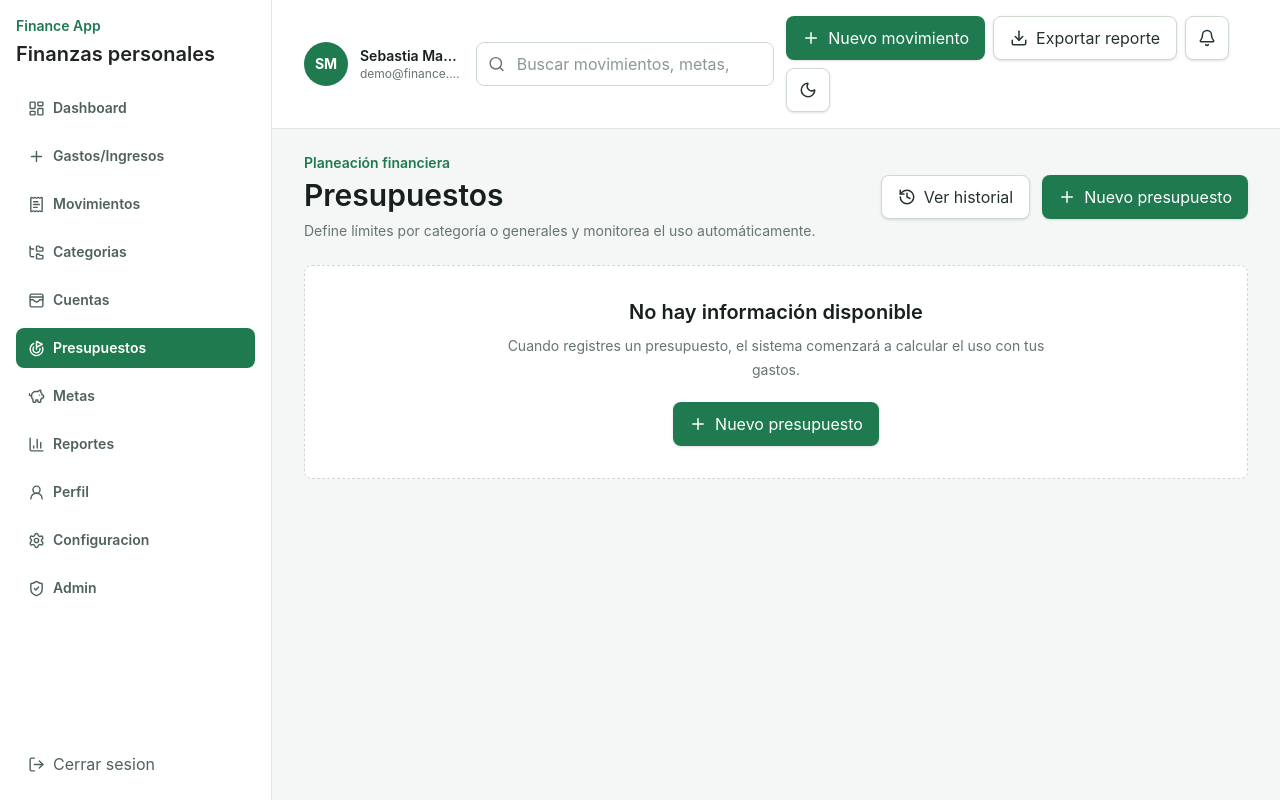
Scenario: HU-03 Planeacion Financiera › permite crear un presupuesto general desde /budgets
expect the heading "Presupuestos" is shown: met, box [304, 177, 504, 213]
expect the heading "No hay información disponible" is shown: met, box [629, 300, 923, 324]
Step 1. Click the 1st button "Nuevo presupuesto" → (1145,197), box [1042, 175, 1248, 219]
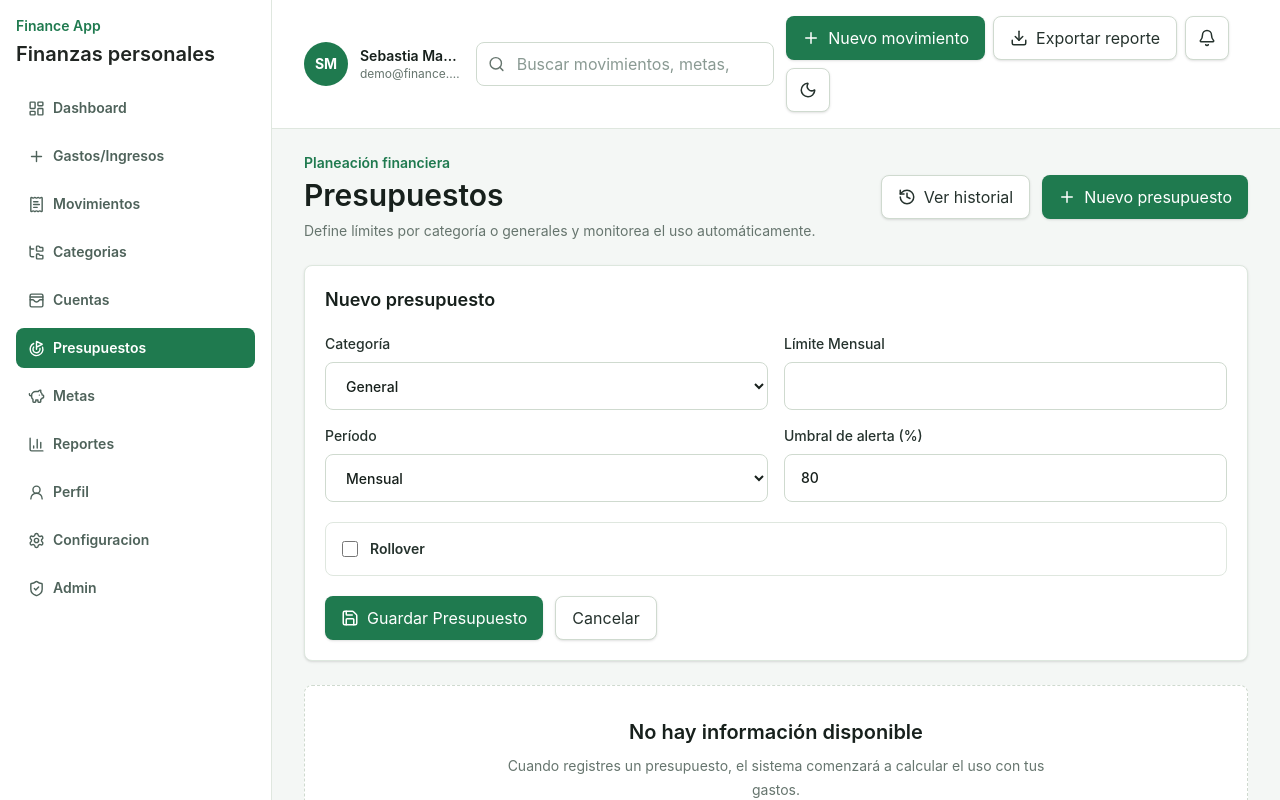
Step 2. Type "500000" into the number field labelled "Límite Mensual" → (1006,386), box [784, 362, 1227, 410]
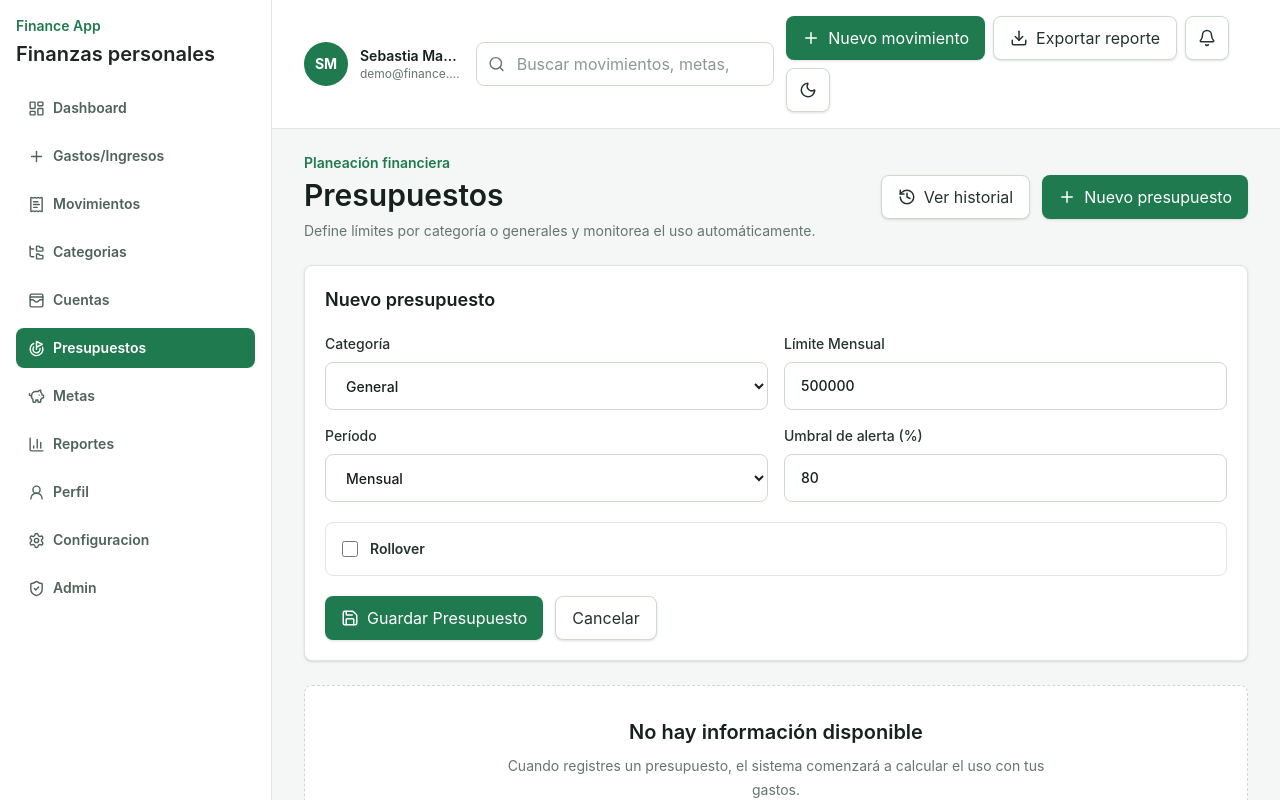
Step 3. Click the button "Guardar Presupuesto" → (434,618), box [325, 596, 543, 640]
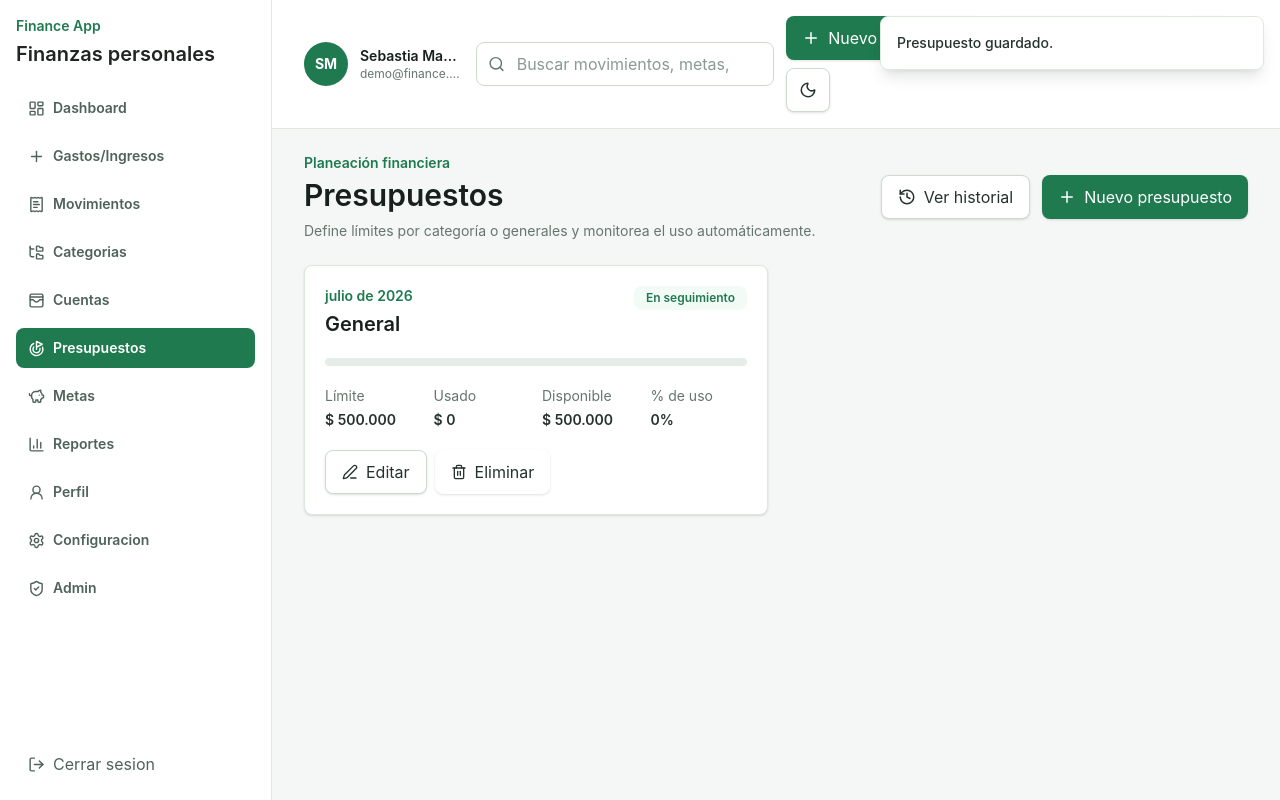
expect the heading "General" is shown: met, box [325, 310, 413, 338]
expect the 1st text "$ 500.000" is shown: met, box [325, 411, 396, 428]
